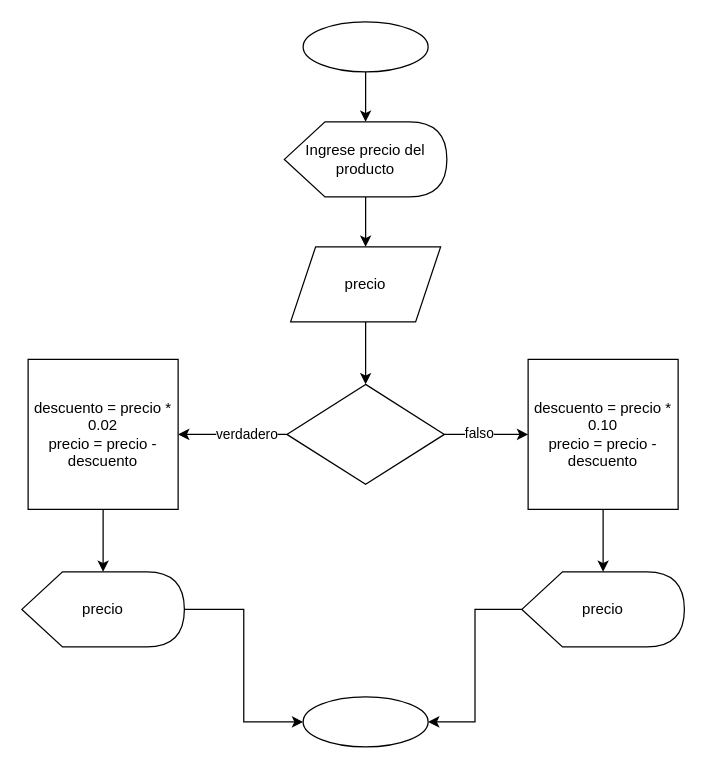
This 706x769 diagram has some shape labels left out. Each missing label, with the box of its shape:
Fin: (302, 696, 428, 747)
Inicio: (302, 21, 428, 72)
Precio < 100: (286, 383, 444, 484)
